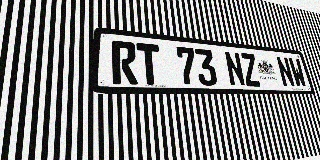3: (194, 48, 218, 86)
7: (175, 46, 199, 86)
N: (224, 51, 246, 86), (275, 56, 296, 87)
R: (111, 40, 138, 85)
T: (136, 43, 162, 85)
W: (288, 57, 308, 87)
Z: (239, 53, 261, 87)
